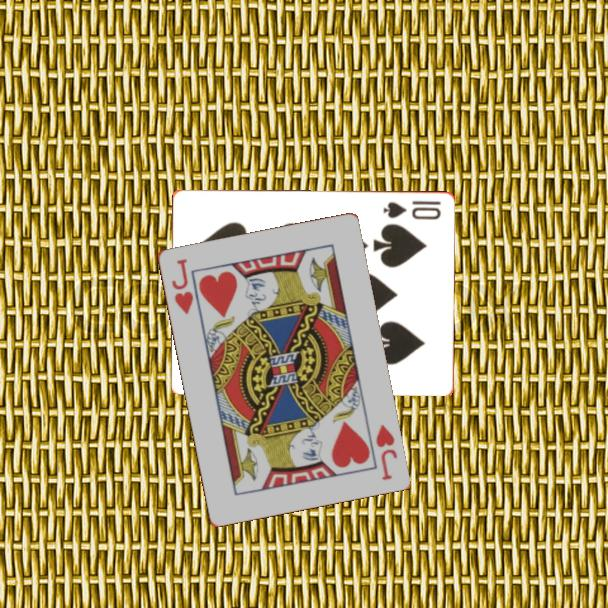h11: (167, 255, 196, 317), (372, 420, 400, 483)
s10: (380, 197, 444, 222)
